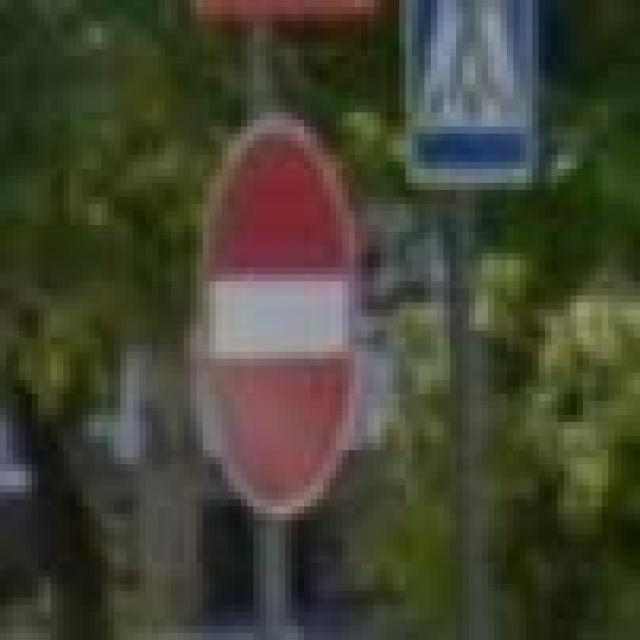Zakaz wjazdu: (184, 112, 368, 528)
